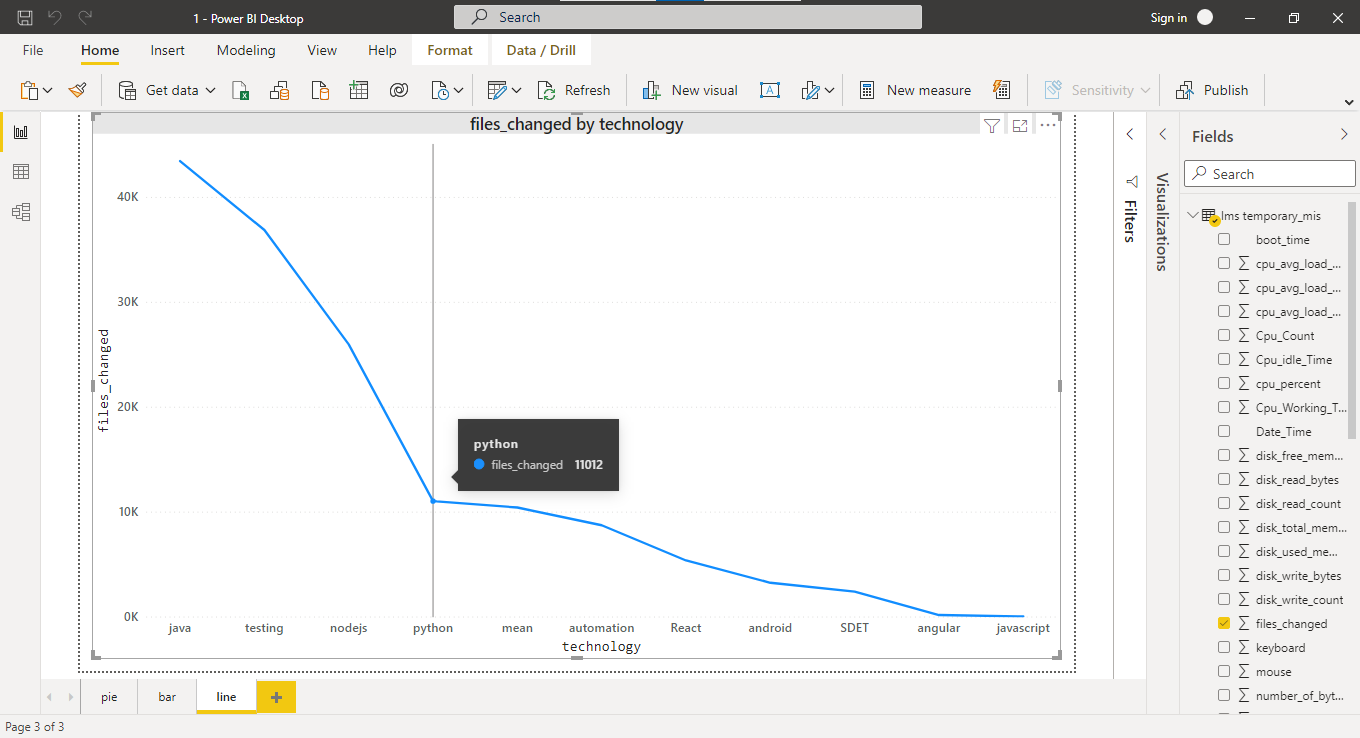

What the dashboard file says about the page in this screenshot:
{"tool":"powerbi","page":{"name":"line","canvas":[1280,720],"ordinal":2},"visuals":[{"type":"lineChart","fields":{"Category":["lms temporary_mis.technology"],"Y":["Sum(lms temporary_mis.files_changed)"]},"box":[16,0,1248,704],"z":0}]}

Visuals, with their boxes on the page's 1280x720 design canvas (x1, y1, x2, y2). These are canvas units, not pixel positions in the 1360x738 screenshot, which may show the page scaled, cropped or inside an application window:
lineChart - lms temporary_mis.technology x Sum(lms temporary_mis.files_changed): bbox=(16, 0, 1264, 704)
